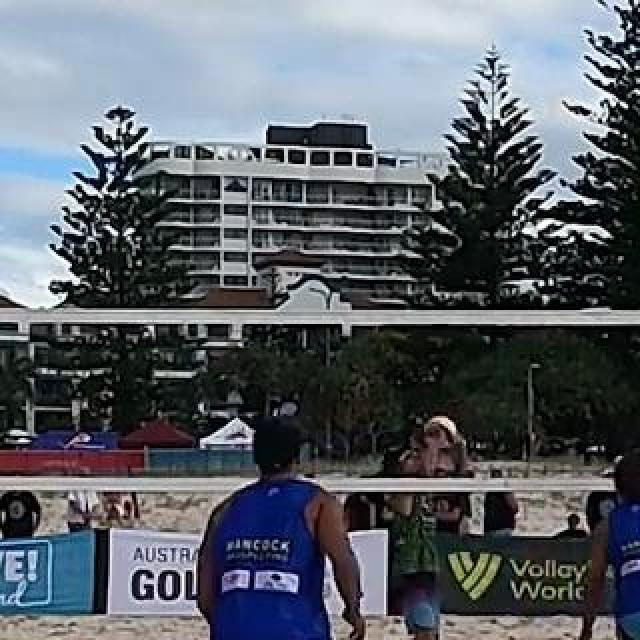volleyball: (426, 416, 456, 448)
